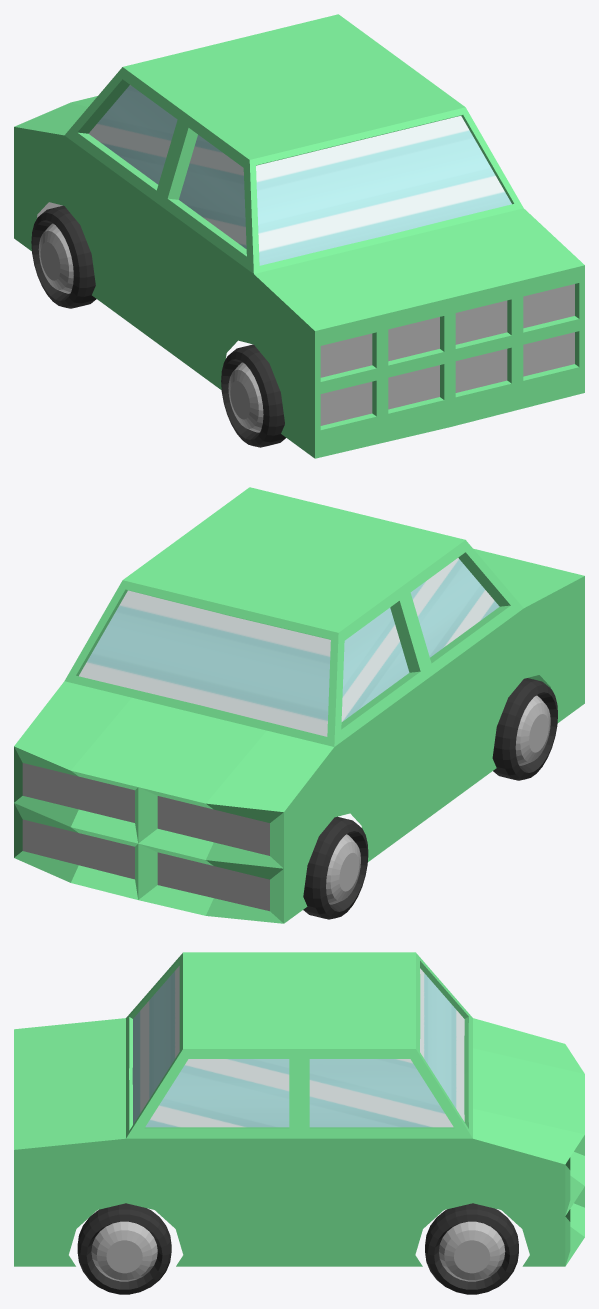
File: Props_Car_03.fbx
3 views of the same model, one above another, from view 1: azimuth 30°, elevation 25°; view 2: azimuth 150°, elevation 25°; view 3: azimuth 270°, elevation 25° (orthographic). The views are drawn at different scales.
Parts seen in each view (by area): view 1: Props_Car_03; view 2: Props_Car_03; view 3: Props_Car_03.
Part boxes in pixels (x1,y1,x2,y2): Props_Car_03: [14, 14, 584, 458]; Props_Car_03: [14, 487, 584, 923]; Props_Car_03: [14, 952, 584, 1294].
Size of the model in its own units: 111 by 89.53 by 200.
